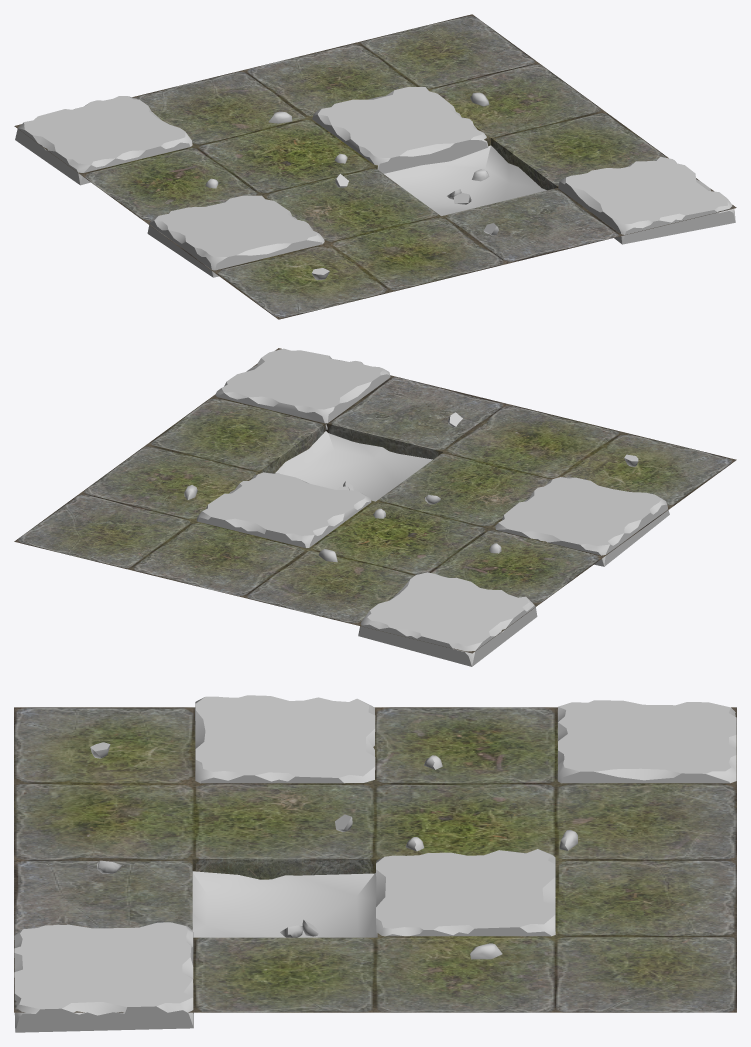
Rendered from Floor_Lvl3_2.fbx.
3 renders of one model, top to bottom at view 1: azimuth 30°, elevation 25°; view 2: azimuth 150°, elevation 25°; view 3: azimuth 270°, elevation 25°, orthographic. The views are drawn at different scales.
Parts seen in each view (by area): view 1: StoneFloor_Details.004; view 2: StoneFloor_Details.004; view 3: StoneFloor_Details.004.
Boxes of the visible parts, bbox=[...] form: StoneFloor_Details.004: bbox=[14, 14, 736, 319]; StoneFloor_Details.004: bbox=[14, 348, 736, 666]; StoneFloor_Details.004: bbox=[14, 695, 736, 1032].
Bounding box in the file's own units: 382 × 31.87 × 382.
